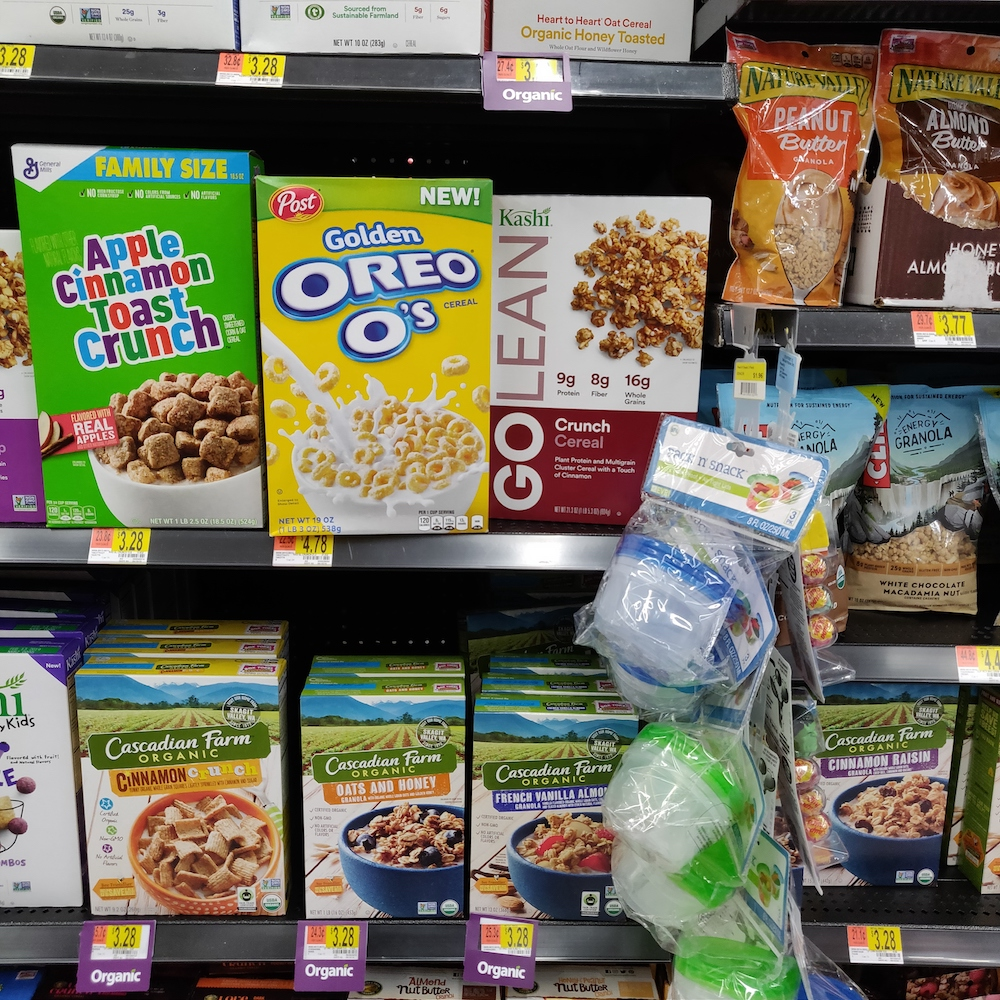Oreo Golden-568301011: (247, 171, 487, 523)
